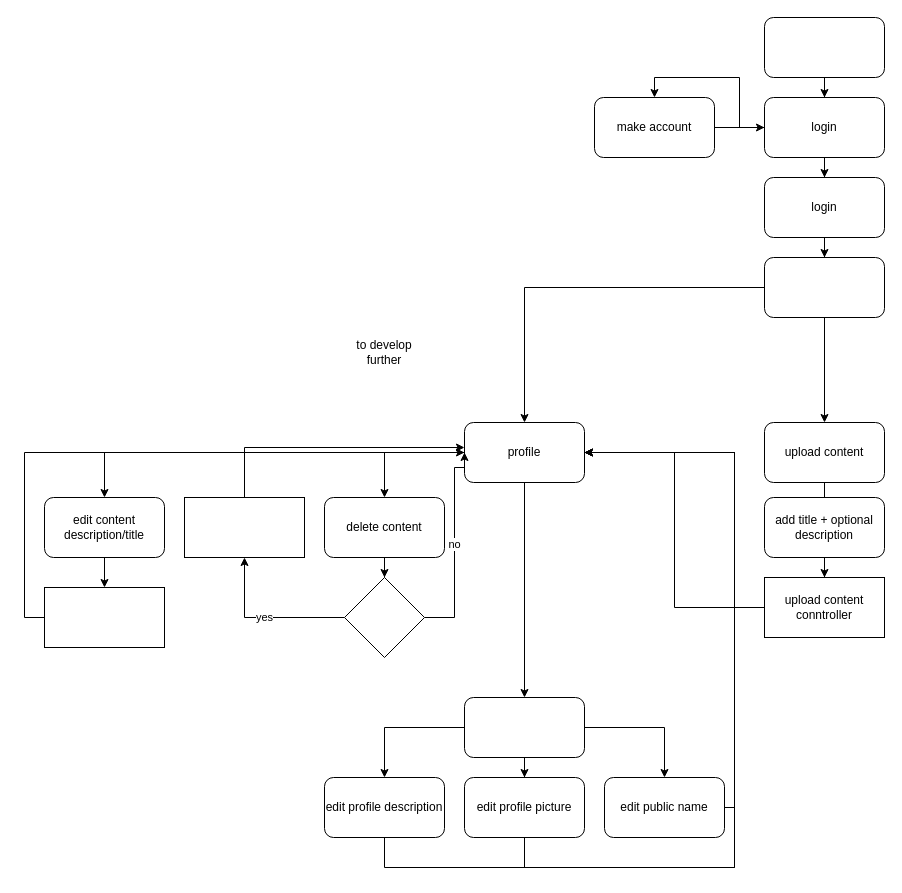
This 902x893 diagram has some shape labels left out. The centre of each missing label's shape, as x and y in pixels:
are you sure: (384,617)
delete content controller: (244,527)
edit profile: (524,727)
home: (824,47)
update content controller: (104,617)
user pannel: (824,287)
